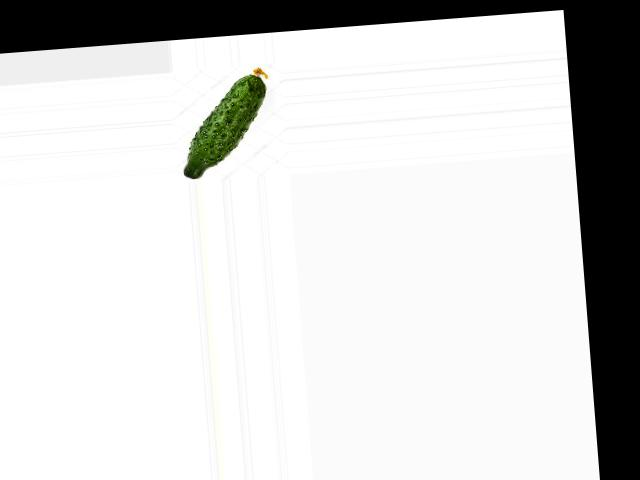cucumber: (175, 66, 274, 179)
